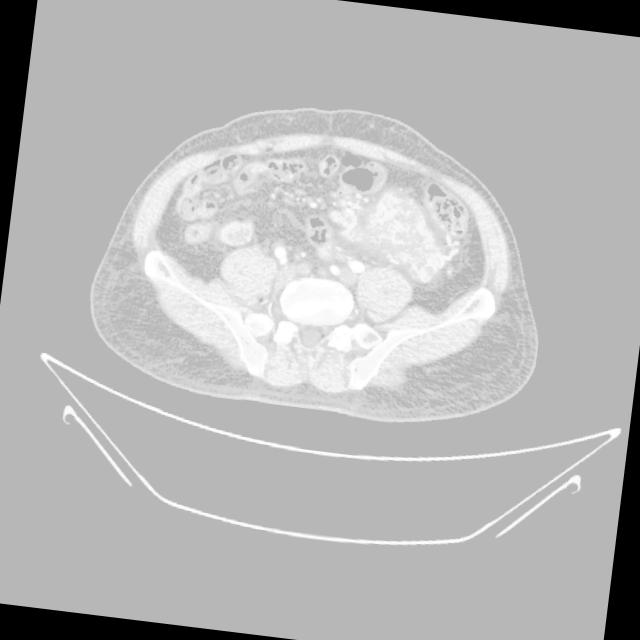TUMOR: (181, 113, 513, 317)
